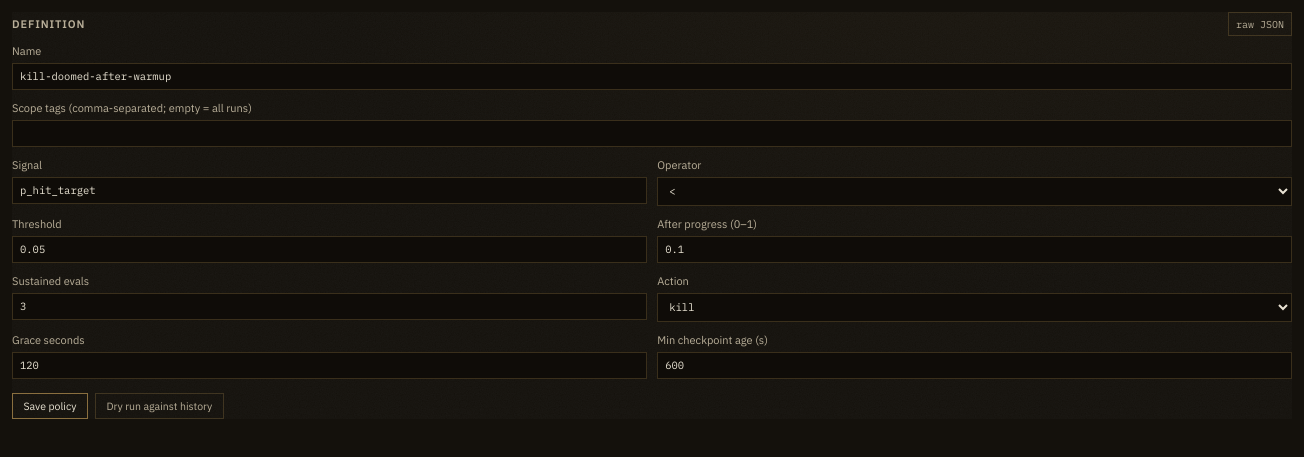
Test: PolicyEditor validation › bad signal is rejected
This screenshot has width=1304, height=457.
Replace the text in the field labelled "Signal" with "p_doom": (329, 190) [12, 177, 647, 204]
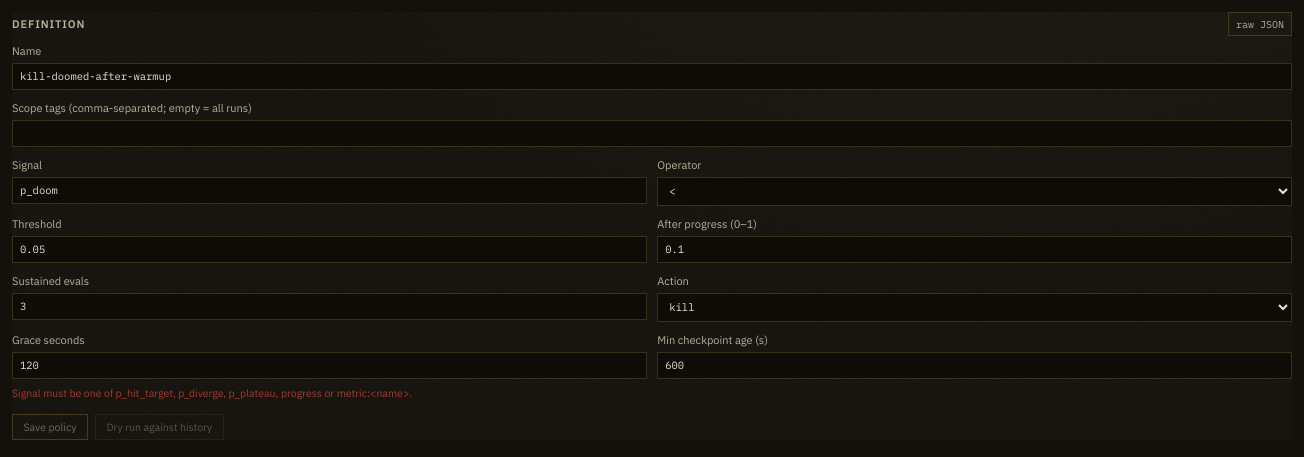
Expected: the message shows "Signal must be one of", [12, 386, 412, 400]
